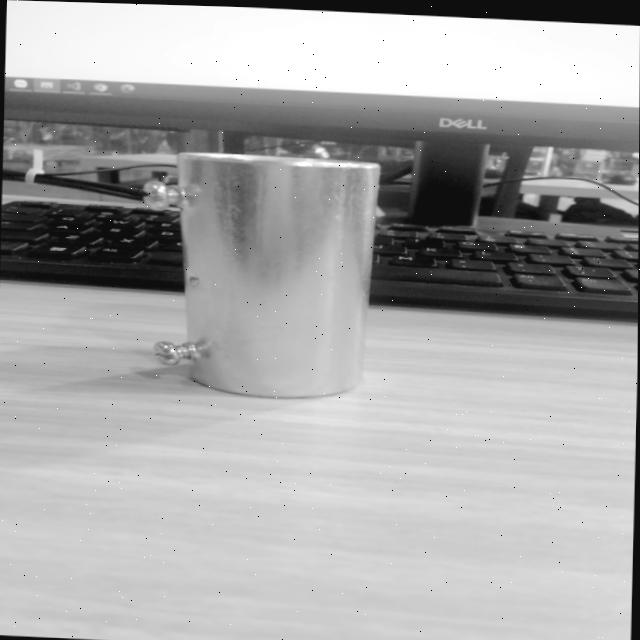Co_Lon: (133, 149, 381, 401)
